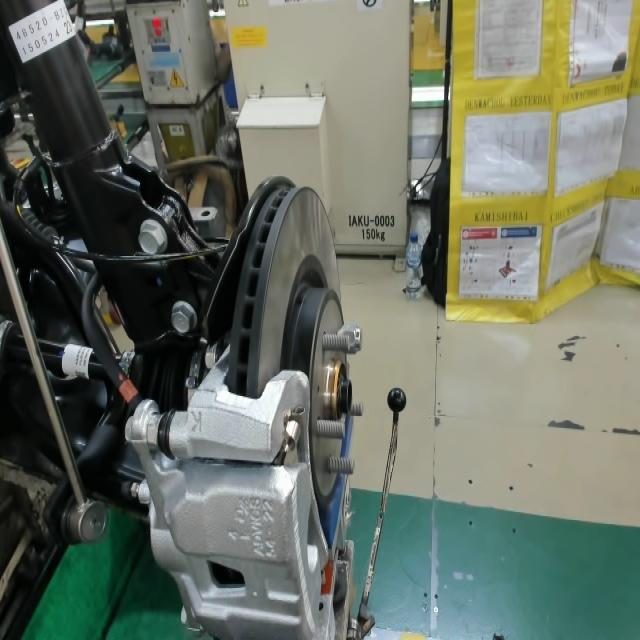Absorber LH-23: (59, 15, 78, 41)
Disc-HT: (278, 245, 352, 492)
Drive Shaft-PT: (56, 336, 100, 385)
